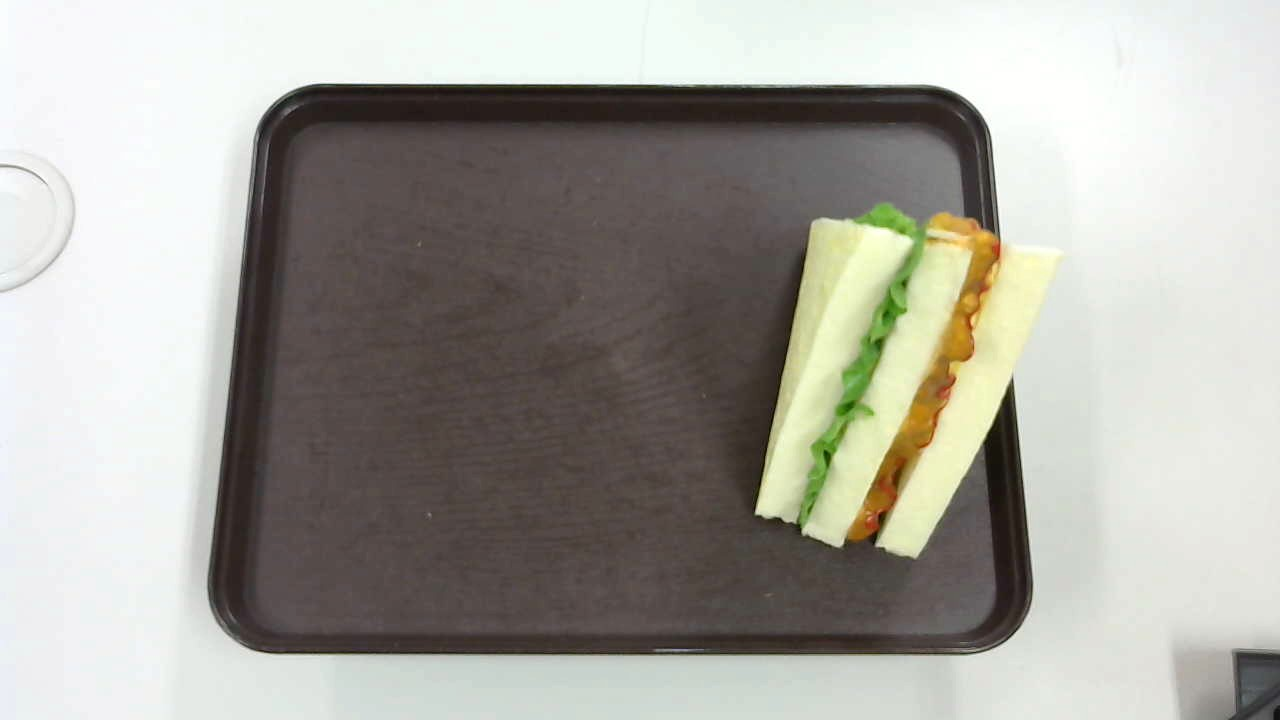sandwich: (754, 201, 1064, 560)
